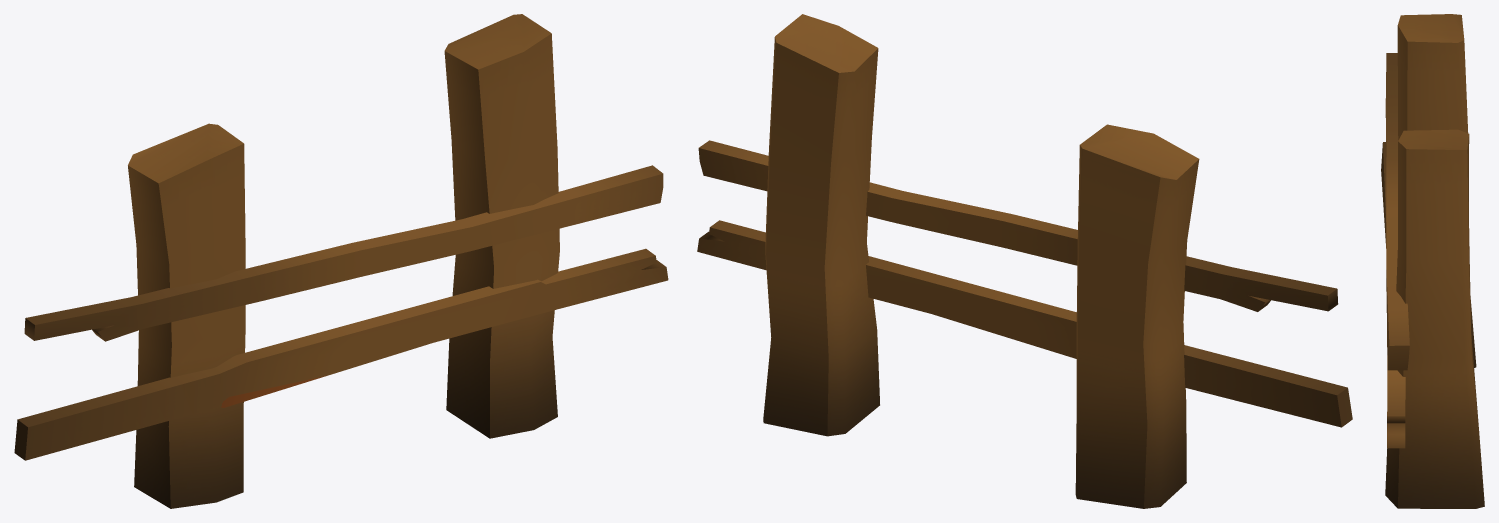
File: RoadFenceWood_Sml-03.FBX
3 renders of one model, left to right at view 1: azimuth 30°, elevation 25°; view 2: azimuth 150°, elevation 25°; view 3: azimuth 270°, elevation 25°, orthographic. The views are drawn at different scales.
Parts seen in each view (by area): view 1: RoadFenceWood_Sml-03; view 2: RoadFenceWood_Sml-03; view 3: RoadFenceWood_Sml-03.
Part boxes in pixels (bbox=[...]): RoadFenceWood_Sml-03: bbox=[14, 14, 668, 508]; RoadFenceWood_Sml-03: bbox=[697, 14, 1352, 508]; RoadFenceWood_Sml-03: bbox=[1381, 14, 1484, 508].
Bounding box in the file's own units: 253 × 144 × 37.38.
Materials: 1 (1 with a texture image).
